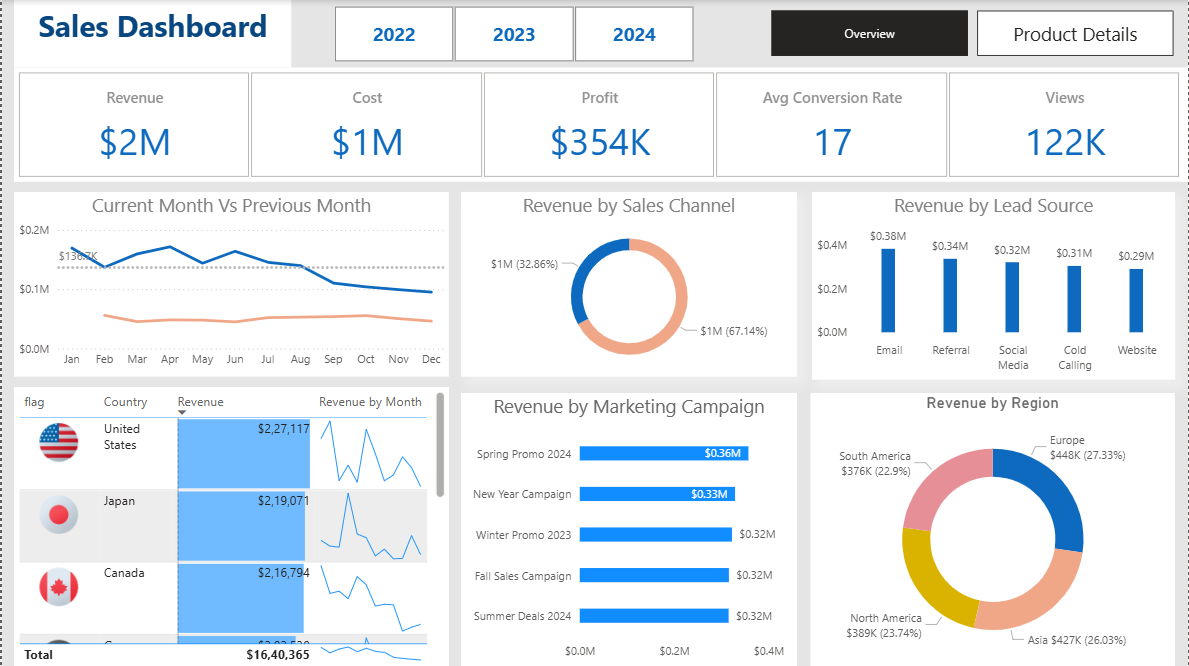

The page's visual inventory and layout, read from the dashboard file:
{"tool":"powerbi","page":{"name":"Overview","canvas":[1280,720],"ordinal":0},"visuals":[{"type":"slicer","fields":{"Values":["Calendar.Year"]},"box":[334.3,0,437,72.8],"z":0},{"type":"cardVisual","fields":{"Data":["All Measures.Revenue","All Measures.Cost","All Measures.Profit","All Measures.Avg Conversion Rate","All Measures.Views"]},"box":[13,72.9,1267.9,123.1],"z":1000},{"type":"lineChart","title":"Current Month Vs Previous Month","fields":{"Category":["Calendar.Month"],"Y":["All Measures.Revenue","All Measures.Revenue PYM"]},"box":[13,207.3,469.6,199.2],"z":2000},{"type":"donutChart","fields":{"Category":["DimChannel.Sales Channel"],"Y":["All Measures.Revenue"]},"box":[495.5,207.3,362.7,199.2],"z":3000},{"type":"textbox","box":[13.2,0,299.6,72.8],"z":4000},{"type":"columnChart","fields":{"Category":["DimLeadSource.Lead Source"],"Y":["All Measures.Revenue"]},"box":[874.4,207.3,391.9,202.4],"z":5000},{"type":"barChart","fields":{"Category":["DimMarketingCampaign.Marketing Campaign"],"Y":["All Measures.Revenue"]},"box":[495.5,424.2,362.7,296.3],"z":6000},{"type":"donutChart","fields":{"Category":["DimCountry.Region"],"Y":["All Measures.Revenue"]},"box":[872.8,424.2,393.5,296.3],"z":7000},{"type":"tableEx","fields":{"Values":["Country Flag.flag","DimCountry.Country","All Measures.Revenue","SparklineData(All Measures.Revenue_[Calendar.Month])"]},"box":[13,417.8,469.6,302.8],"z":8000},{"type":"pageNavigator","box":[830.9,11.6,435.3,49.7],"z":8001}]}

Visuals, with their boxes in screenshot pixels (x1, y1, x2, y2), scaled from the page's 1280x720 canvas onto the 1189x666 screenshot:
slicer - Calendar.Year: 311:0:716:67
cardVisual - All Measures.Revenue x All Measures.Cost: 12:67:1188:181
"Current Month Vs Previous Month" lineChart: 12:192:448:376
donutChart - DimChannel.Sales Channel x All Measures.Revenue: 460:192:797:376
textbox: 12:0:291:67
columnChart - DimLeadSource.Lead Source x All Measures.Revenue: 812:192:1176:379
barChart - DimMarketingCampaign.Marketing Campaign x All Measures.Revenue: 460:392:797:665
donutChart - DimCountry.Region x All Measures.Revenue: 811:392:1176:665
tableEx - Country Flag.flag x DimCountry.Country: 12:386:448:665
pageNavigator: 772:11:1176:57
